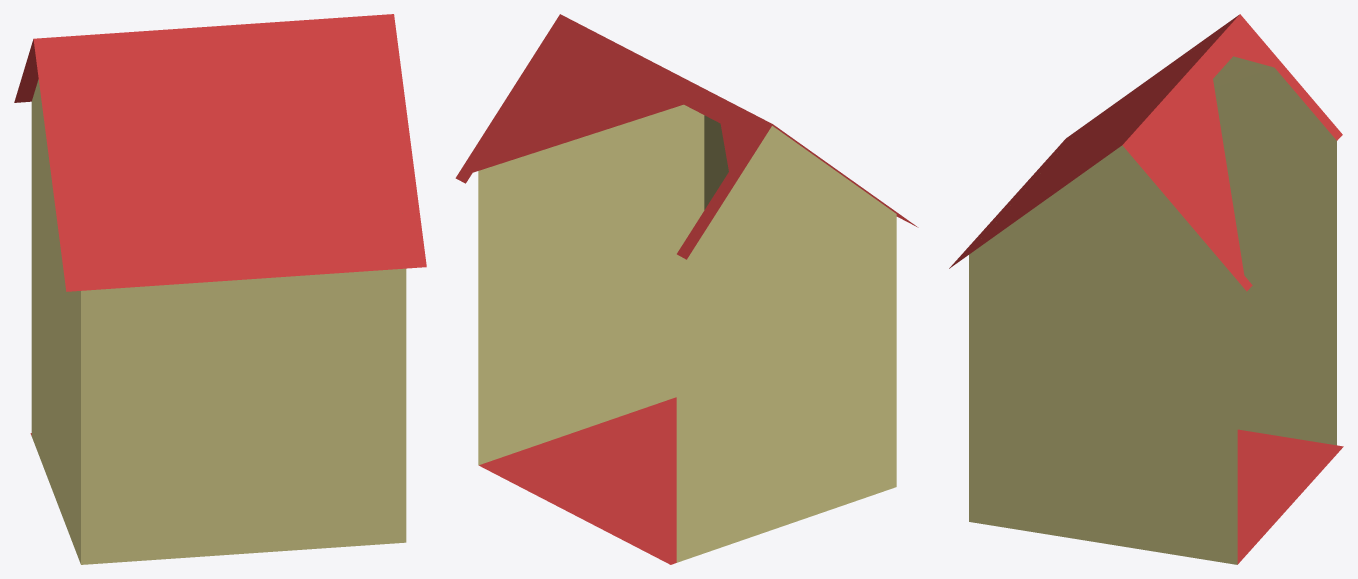
3 views of the same model, side by side, from view 1: azimuth 30°, elevation 25°; view 2: azimuth 150°, elevation 25°; view 3: azimuth 270°, elevation 25° (orthographic). The views are drawn at different scales.
Bounding box in the file's own units: 13.11 × 12.24 × 13.94.
